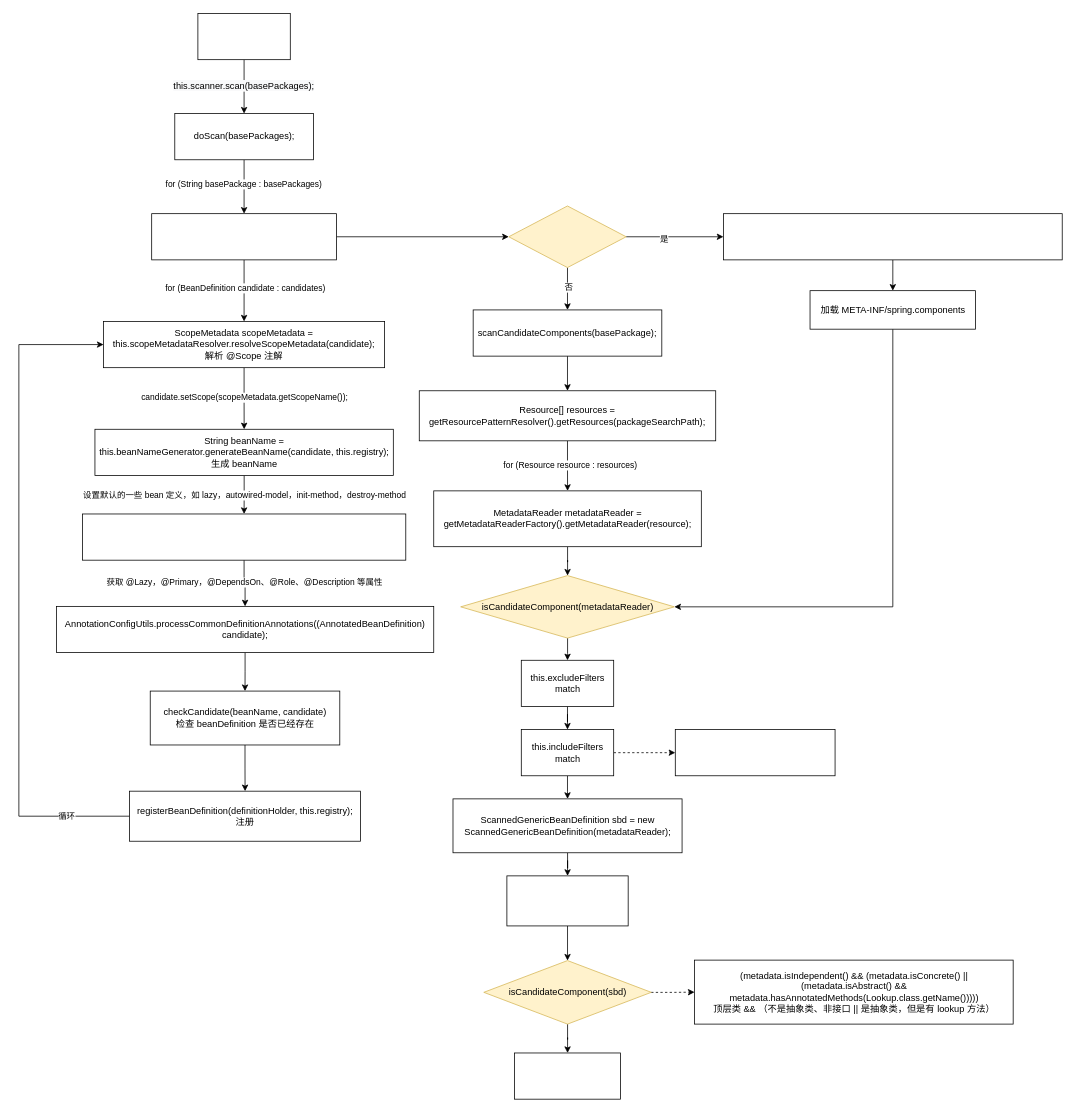
Image size: 1076x1113. Some labels were removed from this diagram. Here are the shapes that lost their labels. From the top down, the centre of each, then its label:
the point at 243,36: scan
the point at 243,236: Set<BeanDefinition> candidates = findCandidateComponents(basePackage);
the point at 567,236: 是否使用快捷注册
the point at 892,236: addCandidateComponentsFromIndex(this.componentsIndex, basePackage)
the point at 244,536: postProcessBeanDefinition((AbstractBeanDefinition) candidate, beanName);
the point at 755,752: isConditionMatch(metadataReader) 是否有满足条件注解
the point at 567,900: sbd.setSource(resource);
the point at 567,1075: candidates.add(sbd);
